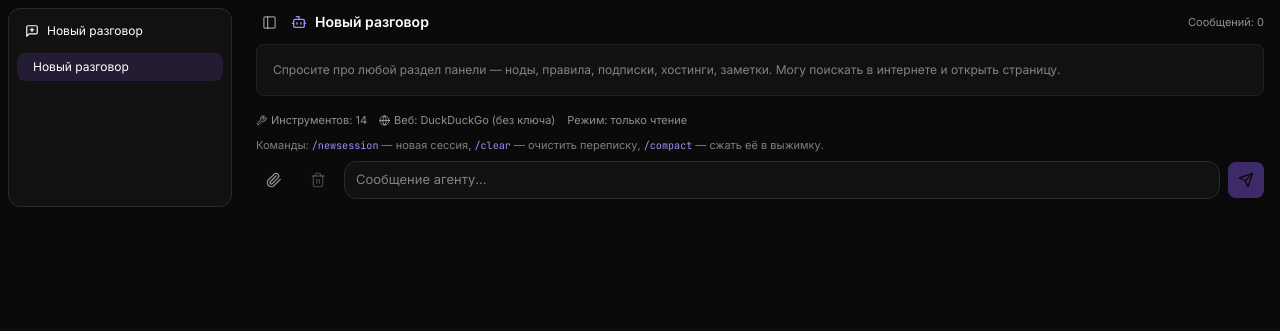
Test: AiChat: markdown и безопасный HTML › gfm-таблица рендерится настоящей таблицей
Type "вопрос" into the field with placeholder "Сообщение агенту...".
click(782, 180); type("вопрос")  # box 344,161 -> 1220,198
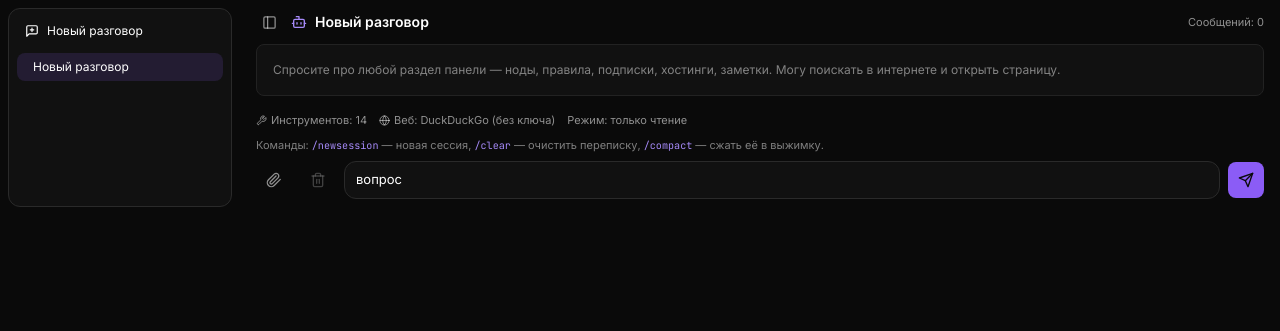
Press Enter in the field with placeholder "Сообщение агенту...", box 344,161 -> 1220,198
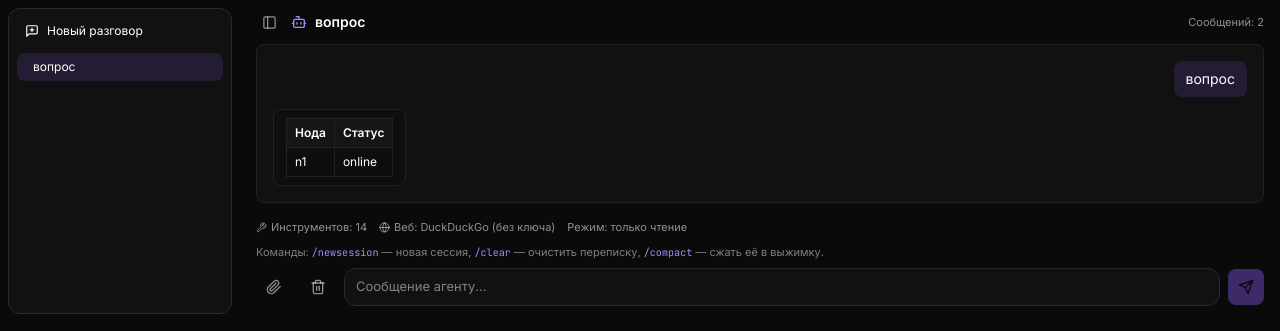
expect the button titled "Очистить" is enabled: met, box 300,269 -> 336,305
expect the table is shown: met, box 286,118 -> 393,177
